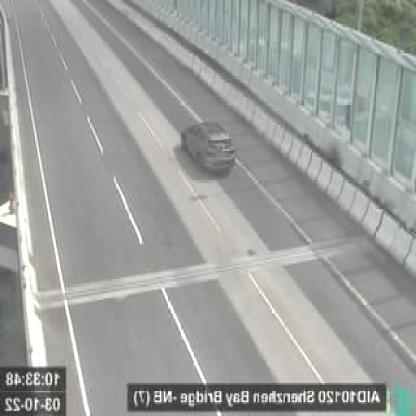Car: (182, 118, 235, 173)
